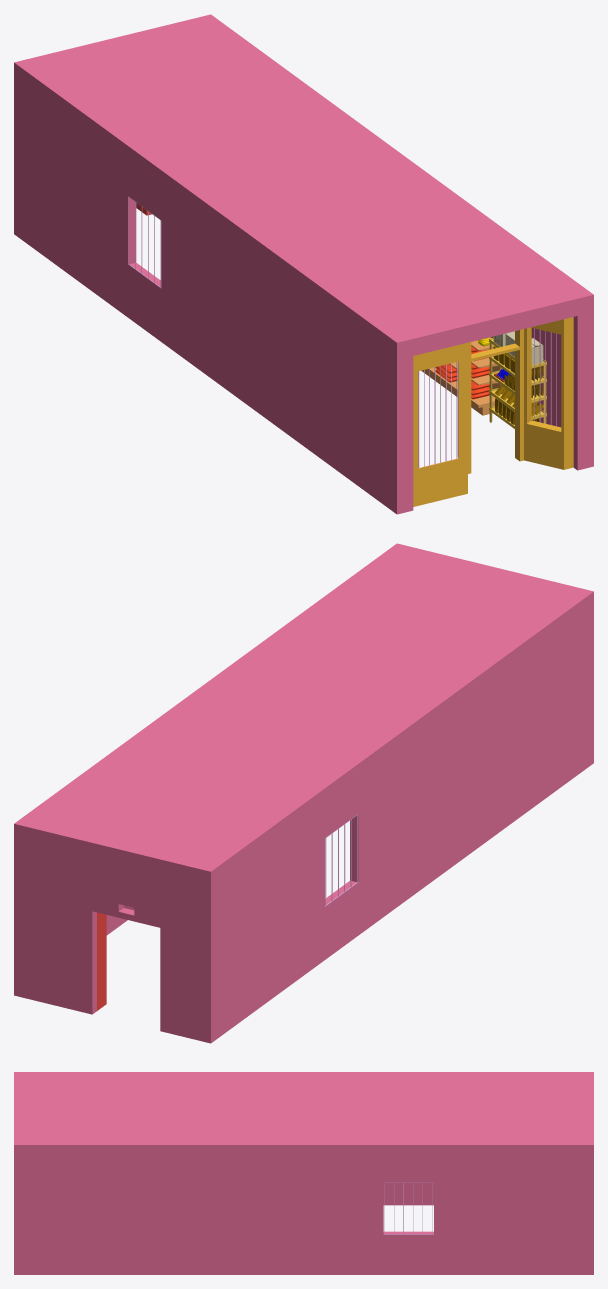
File: TamilArchive_Final.glb
3 renders of one model, top to bottom at view 1: azimuth 30°, elevation 25°; view 2: azimuth 150°, elevation 25°; view 3: azimuth 270°, elevation 25°, orthographic. The views are drawn at different scales.
Visible parts, largest first — view 1: TamilArchive_Colour_Extwalls.002, TamilArchive_Colour_Entry, TamilArchive_Colour_WroughtIron, TamilArchive_Colour_Horlicksandthings.001, TamilArchive_Colour_Shelf02, TamilArchive_Colour_Shelf.002, TamilArchive_Colour_Rice.001; view 2: TamilArchive_Colour_Extwalls.002, TamilArchive_Colour_Bookcase, TamilArchive_Colour_WroughtIron; view 3: TamilArchive_Colour_Extwalls.002, TamilArchive_Colour_WroughtIron.
Part boxes in pixels (<box>): TamilArchive_Colour_Extwalls.002: <box>14,14,593,514</box>; TamilArchive_Colour_Entry: <box>413,317,573,506</box>; TamilArchive_Colour_WroughtIron: <box>128,196,556,467</box>; TamilArchive_Colour_Horlicksandthings.001: <box>493,331,543,424</box>; TamilArchive_Colour_Shelf02: <box>489,337,546,428</box>; TamilArchive_Colour_Shelf.002: <box>421,336,502,415</box>; TamilArchive_Colour_Rice.001: <box>435,346,489,399</box>; TamilArchive_Colour_Extwalls.002: <box>14,543,593,1043</box>; TamilArchive_Colour_Bookcase: <box>97,912,106,1010</box>; TamilArchive_Colour_WroughtIron: <box>325,814,358,906</box>; TamilArchive_Colour_Extwalls.002: <box>14,1072,593,1274</box>; TamilArchive_Colour_WroughtIron: <box>383,1182,433,1234</box>.
Size of the model in its own units: 144 by 120 by 485.
